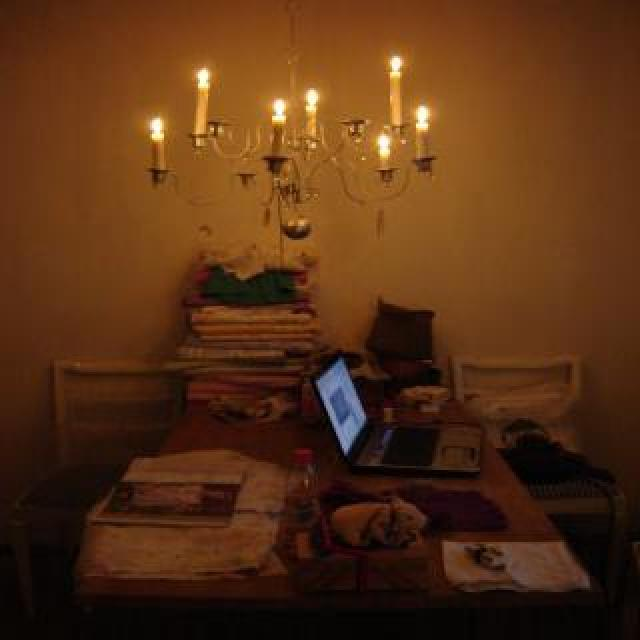laptop_computer: (308, 348, 512, 492)
